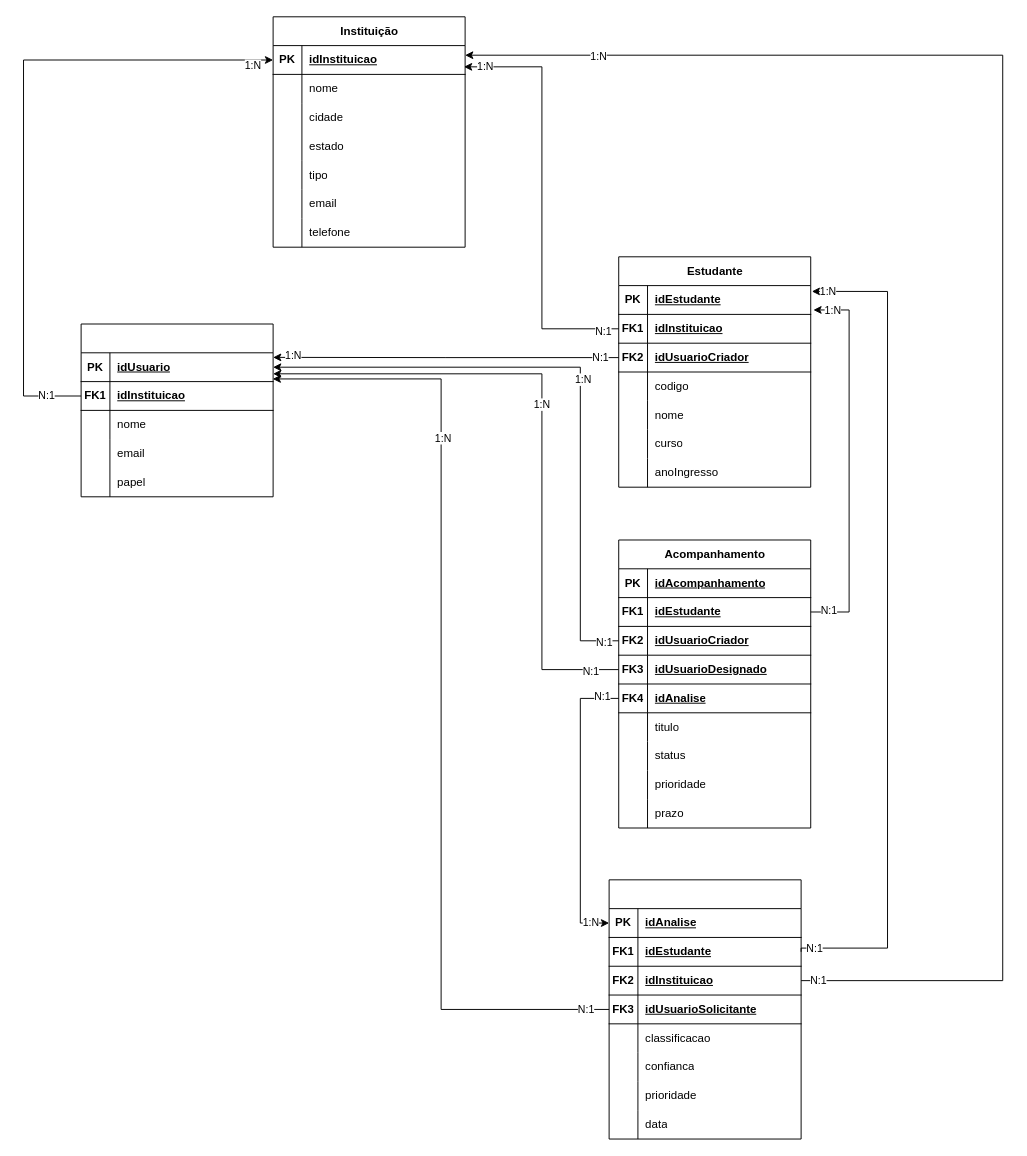
The diagram is 1027 pixels wide and 1156 high, and some of its shapes have lost their labels. Each missing label, with the box of its shape:
Análise: (608, 879, 801, 1139)
Usuário: (80, 323, 273, 497)
